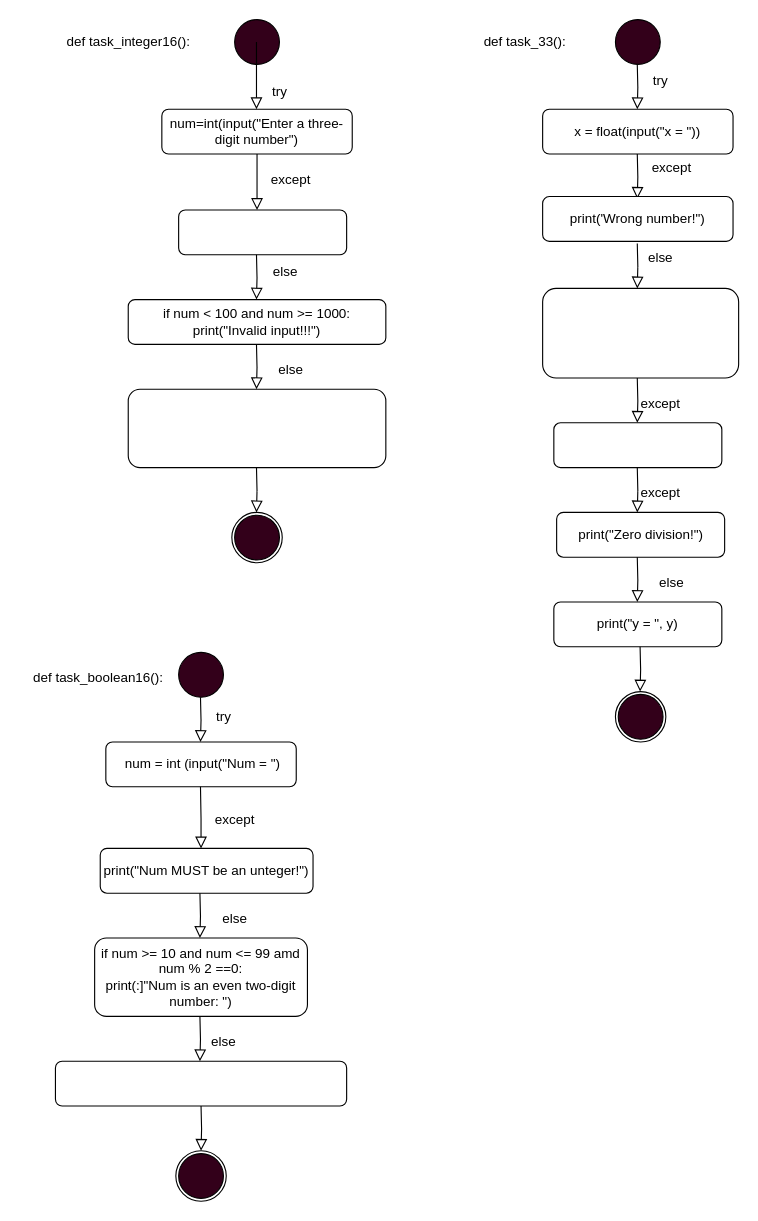
The diagram is 758 pixels wide and 1221 high, and some of its shapes have lost their labels. Here are the shapes that lost their labels. From the top down, the centre of each, then its label:
[262,232]: print("Num MUST be an integer!!!")
[640,332]: num1 = ... num2 = ... x3 = ... denum = ... y = ...
[256,428]: a = num // 100 b = num // 10 % 10 c = num % 10 new_num = a * 100 + c * 10 + b
[637,445]: print("Error calculations!")
[200,1083]: print("Num is not an even two-digit number.")
